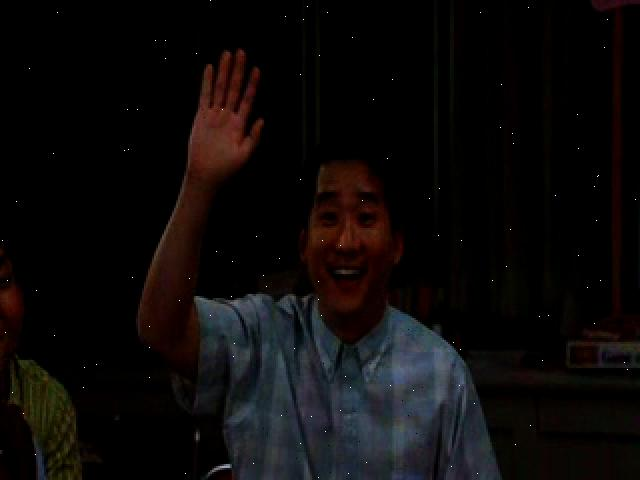T: (123, 43, 504, 480)
